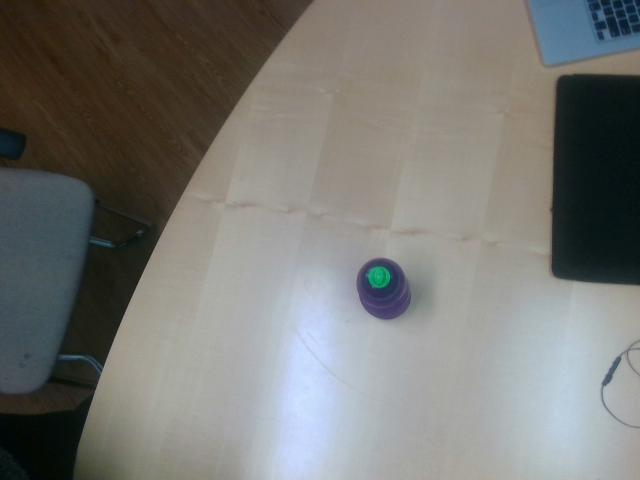bottle: (358, 259, 410, 322)
